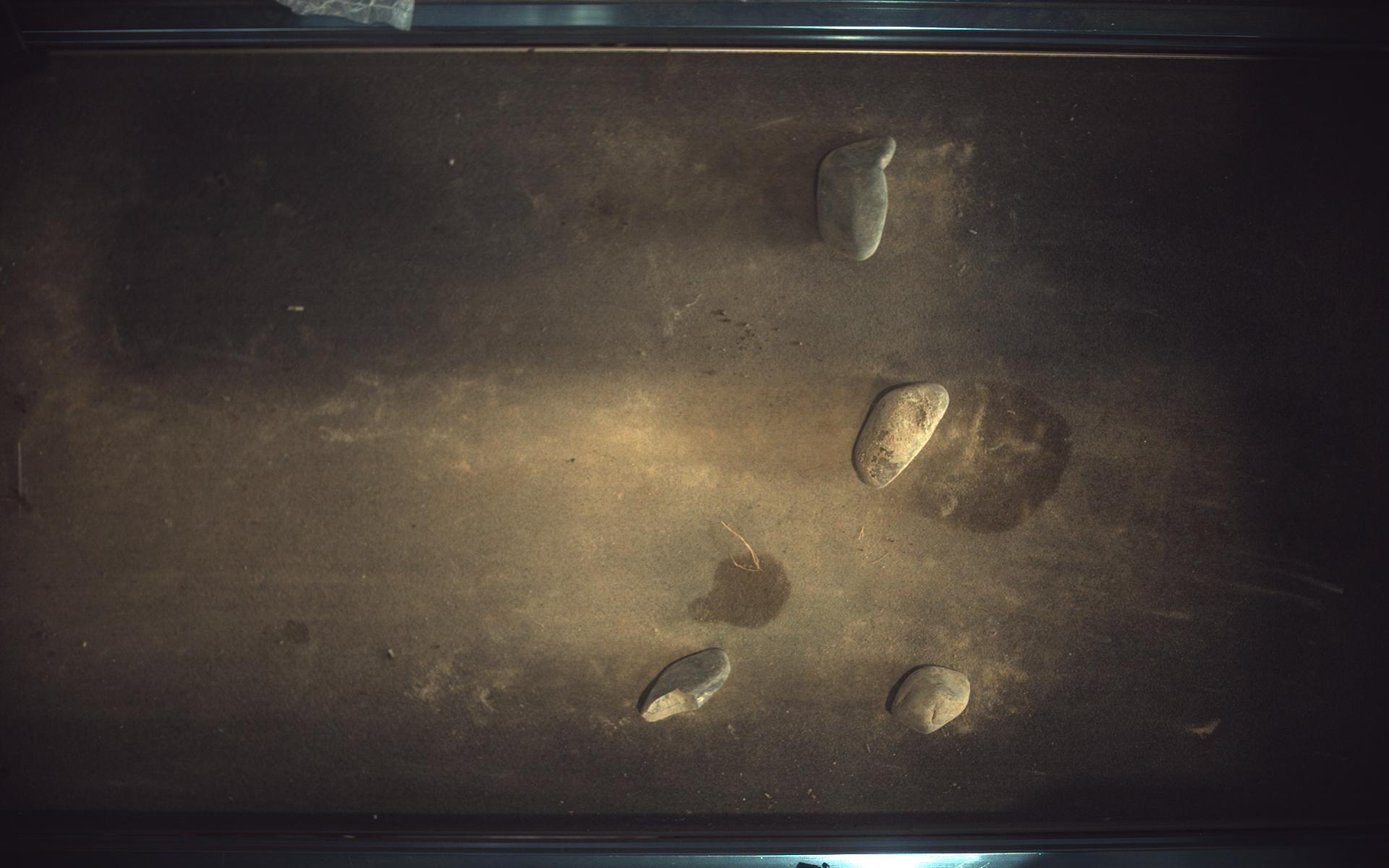stone: (854, 383, 951, 488), (818, 135, 898, 260), (638, 649, 732, 723), (893, 667, 972, 736)
